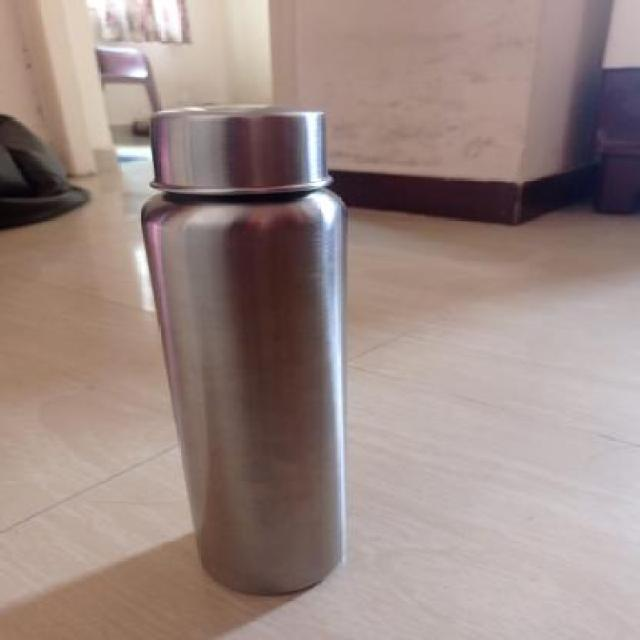bottle: (140, 104, 353, 600)
